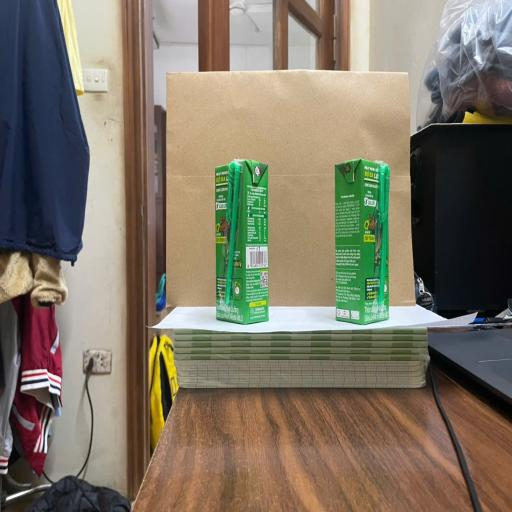milo: (334, 158, 389, 324), (215, 157, 269, 325)
